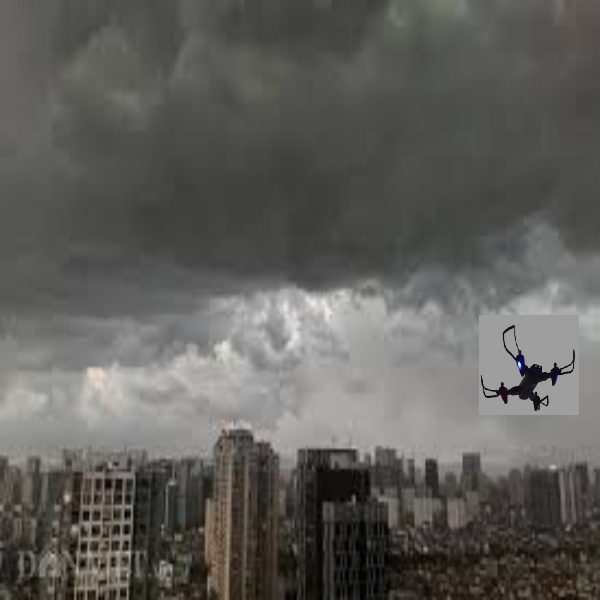drone: (483, 317, 580, 418)
